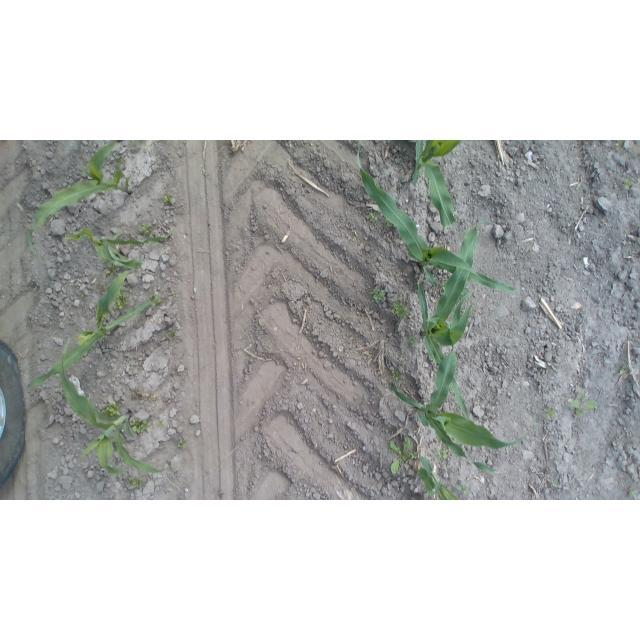Maize: (393, 289, 534, 476), (355, 141, 522, 296), (415, 218, 506, 424), (59, 337, 169, 475), (26, 267, 151, 387), (25, 140, 134, 253), (62, 228, 174, 270), (412, 140, 461, 228), (417, 456, 464, 500)
Weeds: (388, 436, 412, 474), (570, 392, 597, 418), (455, 282, 471, 304), (130, 417, 152, 433), (105, 259, 122, 278), (392, 299, 408, 319), (113, 287, 127, 309), (102, 402, 122, 417), (370, 288, 386, 304), (148, 293, 162, 307), (387, 368, 402, 381), (139, 223, 153, 236), (127, 477, 142, 487), (543, 407, 555, 419), (131, 140, 149, 148), (456, 484, 469, 495), (437, 447, 448, 460), (624, 179, 635, 190), (165, 330, 176, 341), (615, 141, 625, 152), (369, 211, 379, 221), (424, 488, 435, 496), (629, 488, 639, 496), (407, 336, 416, 344), (164, 194, 172, 203), (550, 480, 558, 488), (178, 440, 186, 448), (156, 419, 164, 427), (620, 365, 627, 373), (387, 220, 394, 228), (411, 451, 418, 459), (114, 158, 120, 167), (442, 282, 447, 291), (173, 293, 180, 298), (81, 293, 85, 298), (424, 497, 429, 500)
